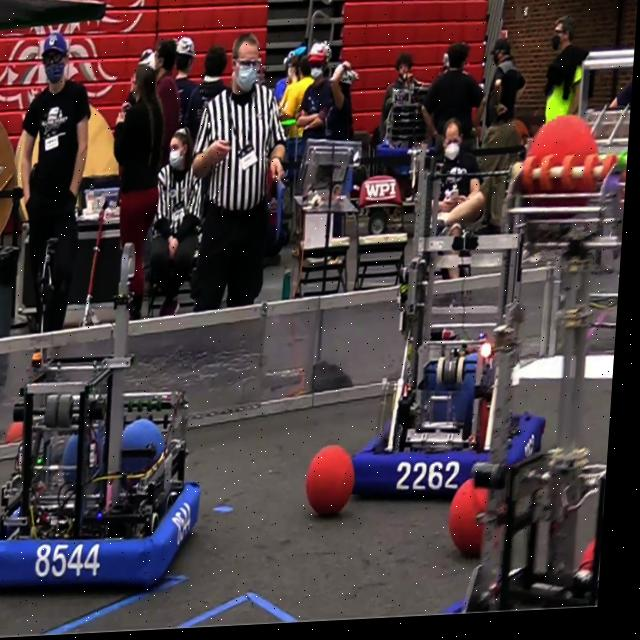robot: (0, 238, 220, 598), (357, 140, 568, 509)
